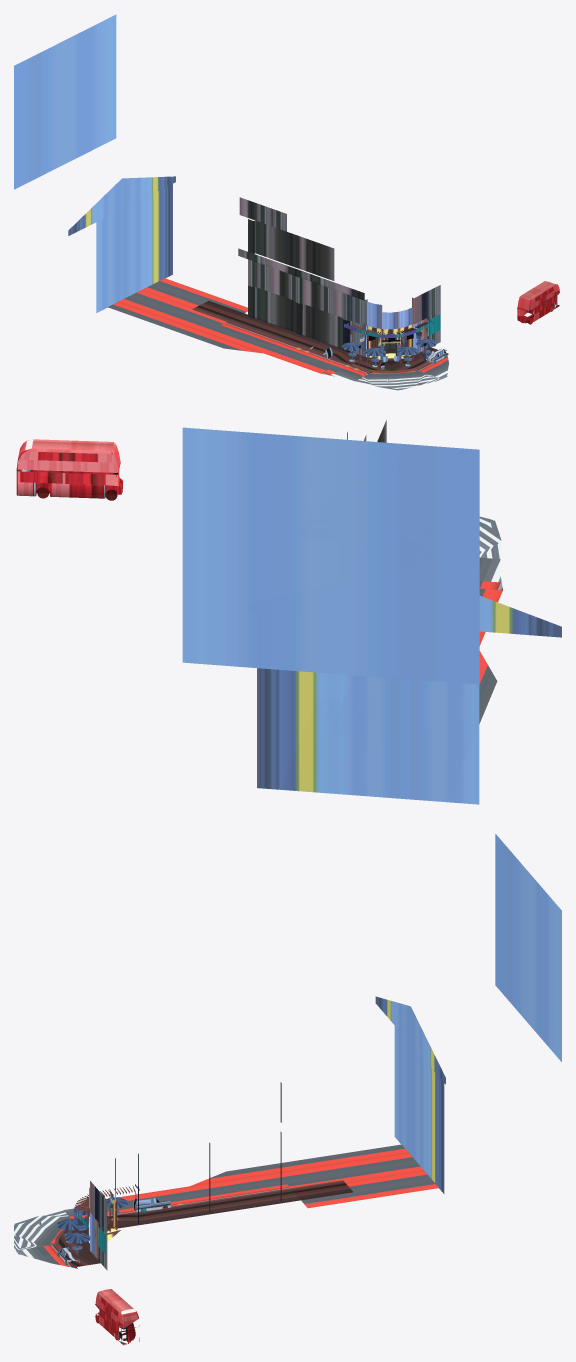
The model's file is cvs2london.glb.
3 renders of one model, top to bottom at view 1: azimuth 30°, elevation 25°; view 2: azimuth 150°, elevation 25°; view 3: azimuth 270°, elevation 25°, orthographic. The views are drawn at different scales.
Parts seen in each view (by area): view 1: Mesh_395, Mesh_413, Mesh_149, Mesh_81, Mesh_412, Mesh_148, Mesh_357, NurbsPath, Mesh_80, Mesh_79, Mesh_414, Mesh_78 (+7 smaller); view 2: Mesh_395, Mesh_413, NurbsPath, Mesh_412, Mesh_402, Mesh_75; view 3: Mesh_395, Mesh_413, Mesh_81, Mesh_357, Mesh_80, NurbsPath, Mesh_412, Mesh_78, Mesh_79, Mesh_69, Mesh_74, Mesh_414 (+1 smaller).
Boxes of the visible parts, x1,y1,x2,y2 form: Mesh_395: (14,14,116,189); Mesh_413: (96,195,172,312); Mesh_149: (255,292,342,348); Mesh_81: (118,295,332,373); Mesh_412: (68,176,175,230); Mesh_148: (255,220,318,275); Mesh_357: (213,314,342,350); NurbsPath: (517,281,559,324); Mesh_80: (108,302,234,348); Mesh_79: (218,322,341,367); Mesh_414: (96,184,172,233); Mesh_78: (130,290,226,326); Mesh_395: (182,427,479,684); Mesh_413: (257,668,479,804); NurbsPath: (16,439,123,500); Mesh_412: (479,596,560,626); Mesh_402: (479,620,561,637); Mesh_75: (479,520,501,552); Mesh_395: (495,834,561,1061); Mesh_413: (394,1039,444,1193); Mesh_81: (112,1152,416,1208); Mesh_357: (146,1184,312,1223); Mesh_80: (226,1144,408,1179); NurbsPath: (95,1289,139,1345); Mesh_412: (376,996,445,1084); Mesh_78: (285,1162,423,1187); Mesh_79: (117,1182,289,1214); Mesh_69: (301,1186,394,1208); Mesh_74: (345,1170,431,1191); Mesh_414: (394,1026,444,1095).
Size of what is drawn, in the model's own units: 511 by 280 by 500.
Materials: 1026 (1026 with a texture image).
